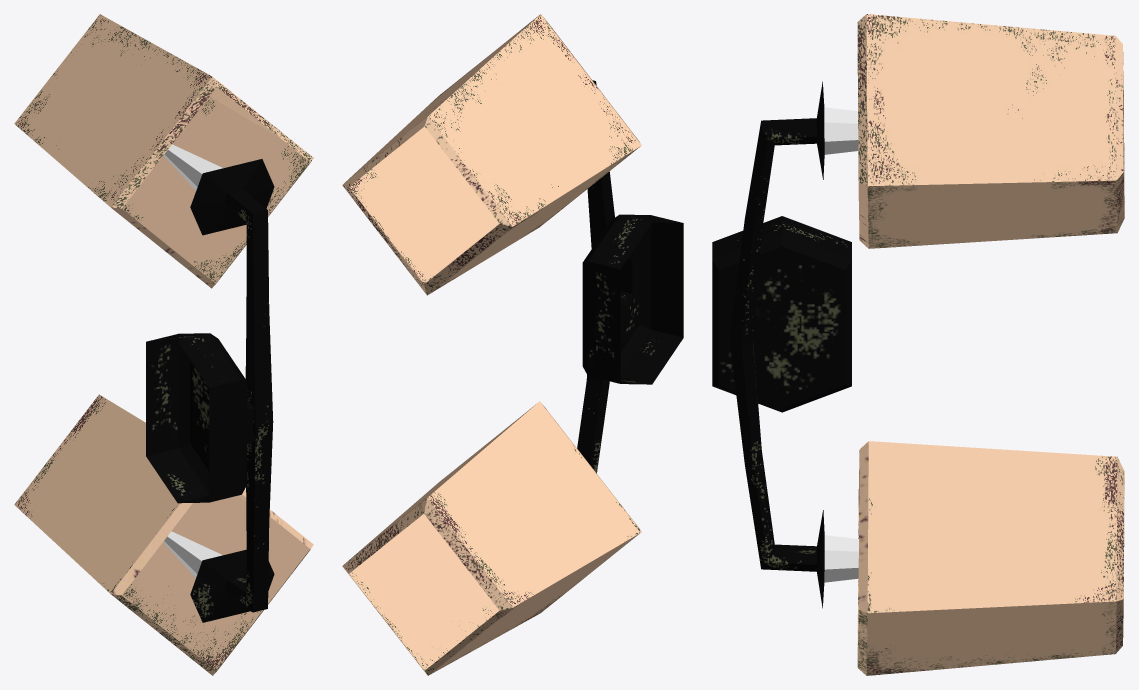
Rendered from Lampara.fbx.
3 renders of one model, left to right at view 1: azimuth 30°, elevation 25°; view 2: azimuth 150°, elevation 25°; view 3: azimuth 270°, elevation 25°, orthographic. The views are drawn at different scales.
Visible parts, largest first — view 1: LamparaFinal.001; view 2: LamparaFinal.001; view 3: LamparaFinal.001.
Boxes of the visible parts, bbox=[...] form: LamparaFinal.001: bbox=[14, 14, 313, 675]; LamparaFinal.001: bbox=[342, 14, 683, 675]; LamparaFinal.001: bbox=[712, 14, 1124, 675].
Bounding box in the file's own units: 15.28 × 43.05 × 24.3.
